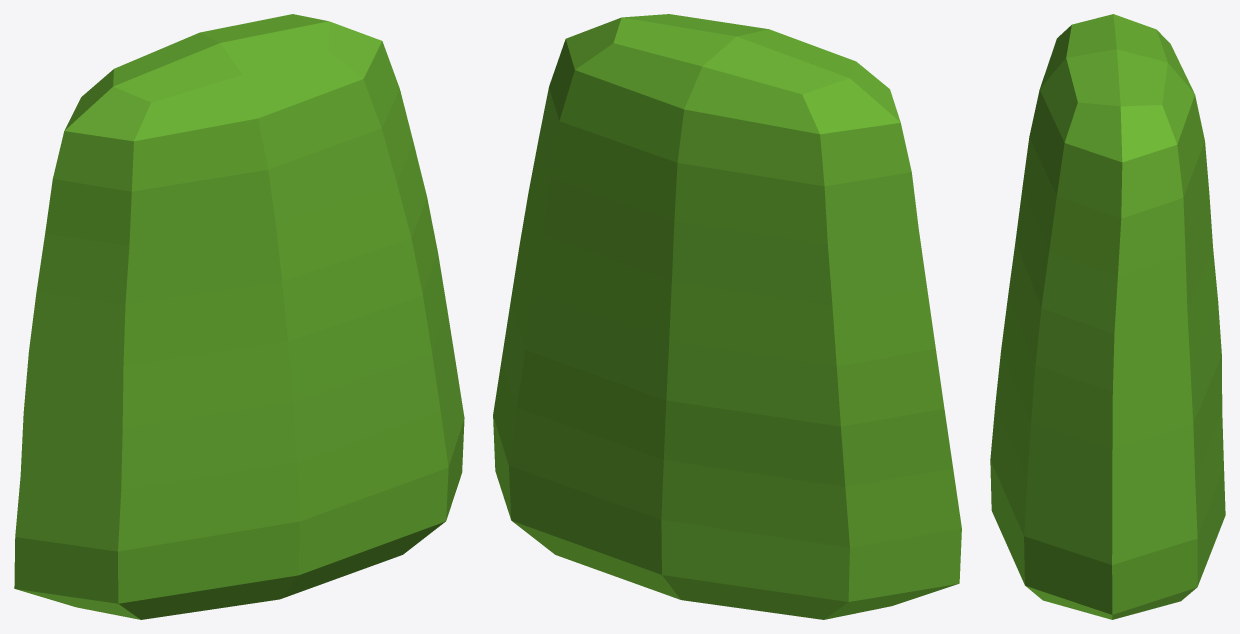
File: SimpleStones.fbx
The picture shows the model from 3 angles, left to right: view 1: azimuth 30°, elevation 25°; view 2: azimuth 150°, elevation 25°; view 3: azimuth 270°, elevation 25°; orthographic projection. The views are drawn at different scales.
Parts seen in each view (by area): view 1: Cube.001; view 2: Cube.001; view 3: Cube.001.
Boxes of the visible parts, x1,y1,x2,y2 form: Cube.001: [14, 14, 464, 619]; Cube.001: [493, 14, 961, 619]; Cube.001: [990, 14, 1225, 619].
Size of the model in its own units: 4.83 by 5.34 by 2.31.
